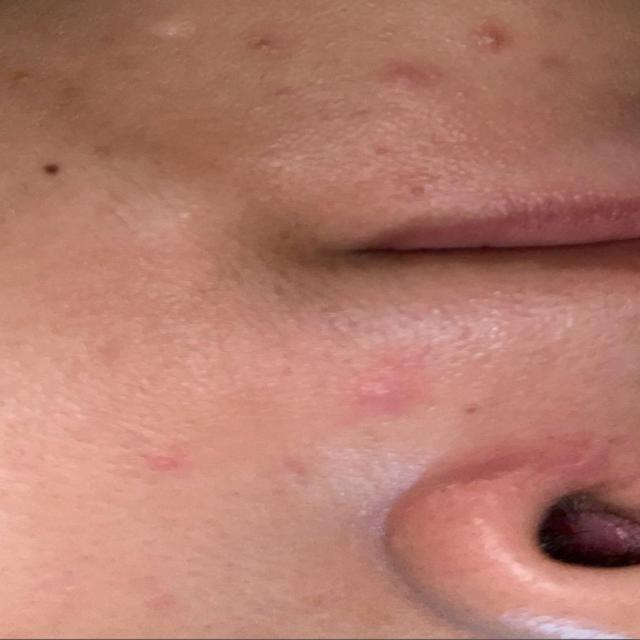papule: (332, 356, 433, 431), (365, 53, 447, 131), (121, 425, 215, 493)
pustule: (451, 17, 530, 70)
